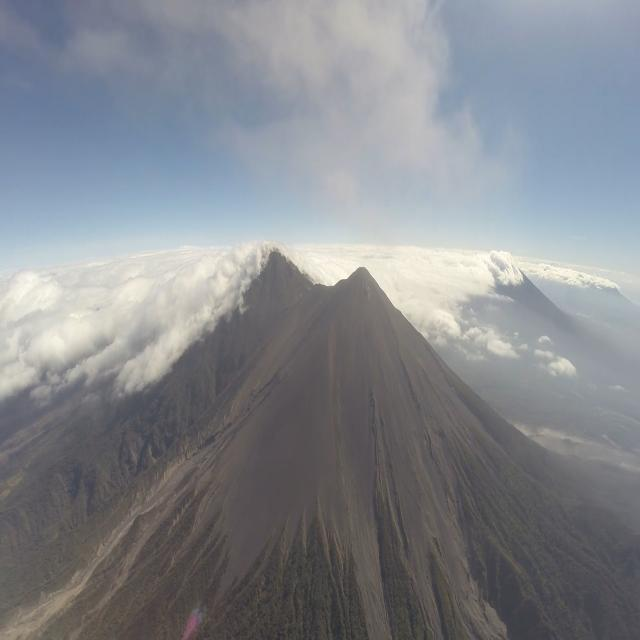Plume: (52, 0, 514, 203)
Summit: (334, 262, 386, 298)
